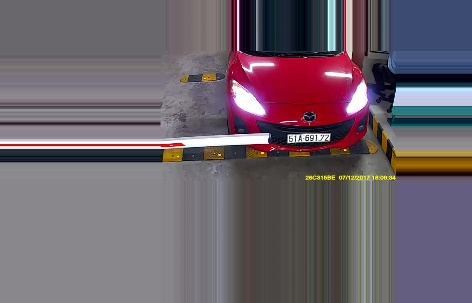plate: (286, 131, 334, 146)
